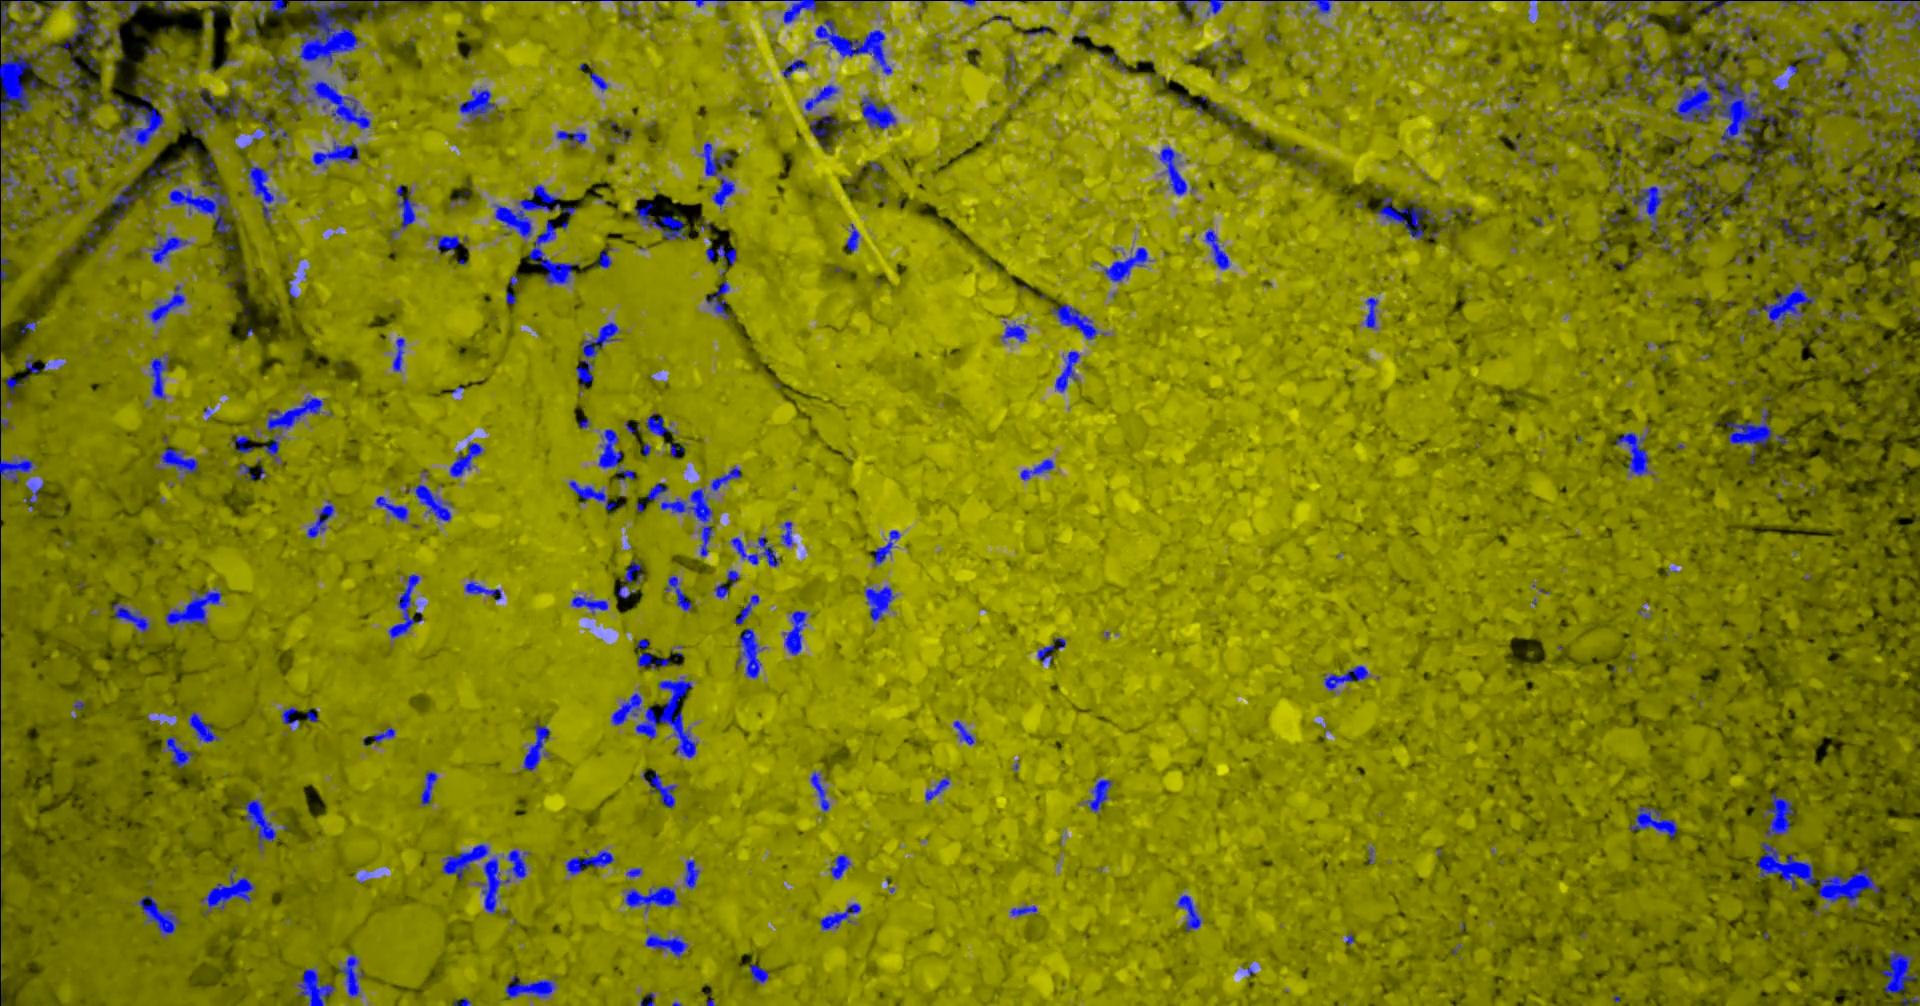ant: (37, 29, 121, 97), (262, 395, 324, 461), (660, 486, 712, 556), (528, 218, 578, 285), (1746, 282, 1815, 325), (575, 321, 618, 387), (1724, 406, 1771, 464), (201, 865, 254, 915), (1374, 196, 1434, 239), (165, 587, 221, 627), (1881, 948, 1919, 1005), (389, 573, 422, 638), (1630, 185, 1671, 238), (1676, 173, 1704, 246), (1050, 304, 1106, 339), (632, 202, 684, 240), (598, 428, 634, 480), (135, 895, 180, 935), (0, 453, 34, 503), (243, 799, 276, 850), (1103, 246, 1152, 281), (245, 165, 273, 221), (730, 535, 778, 567), (1615, 432, 1650, 476), (1592, 0, 1642, 30), (105, 184, 138, 230), (0, 375, 23, 441), (1763, 791, 1796, 837), (1870, 0, 1919, 30), (1629, 807, 1677, 837), (265, 57, 298, 102), (623, 885, 678, 912), (568, 480, 615, 511), (1158, 145, 1186, 196), (735, 627, 763, 678), (149, 285, 185, 323), (296, 968, 334, 1005), (414, 484, 451, 521), (390, 184, 415, 238), (458, 86, 497, 119), (312, 140, 359, 166), (149, 232, 189, 263), (523, 721, 549, 770), (565, 850, 613, 875), (504, 974, 555, 998), (643, 771, 676, 808), (110, 602, 150, 633), (1779, 217, 1818, 246), (861, 97, 895, 130), (450, 442, 483, 476), (1323, 666, 1368, 691), (109, 0, 171, 18), (783, 610, 808, 655), (700, 142, 733, 175), (809, 114, 841, 149), (1203, 229, 1229, 269), (819, 902, 860, 929), (339, 953, 363, 997), (1054, 351, 1079, 392), (636, 638, 669, 669), (863, 586, 894, 620), (157, 447, 198, 473), (306, 500, 334, 537), (782, 0, 827, 23), (610, 694, 641, 725), (617, 559, 643, 598), (872, 530, 900, 565), (644, 934, 687, 956), (147, 159, 188, 183), (165, 735, 194, 768), (1082, 779, 1111, 812), (1176, 894, 1201, 931), (188, 711, 218, 742), (664, 575, 691, 610), (149, 352, 168, 399), (705, 281, 729, 318), (804, 84, 837, 111), (1636, 46, 1662, 77), (705, 241, 737, 268), (375, 495, 408, 521), (1037, 636, 1065, 664), (711, 177, 734, 210), (810, 771, 829, 810), (1020, 459, 1054, 480), (710, 466, 740, 490), (463, 580, 502, 600), (0, 0, 20, 36), (734, 594, 758, 624), (570, 594, 607, 614), (62, 95, 83, 130), (1704, 0, 1732, 24), (1738, 149, 1766, 173), (1796, 43, 1825, 66), (507, 848, 530, 878), (23, 480, 44, 511), (1001, 316, 1026, 342), (1707, 189, 1731, 215), (924, 776, 949, 801), (1823, 79, 1851, 100), (1850, 22, 1865, 61), (434, 235, 467, 253), (420, 770, 437, 805), (240, 11, 264, 36), (646, 412, 670, 436), (1177, 95, 1208, 113), (555, 130, 585, 147), (1622, 71, 1644, 94), (1789, 95, 1804, 130), (952, 720, 974, 744), (829, 854, 851, 878), (781, 58, 808, 77), (683, 857, 698, 889), (1779, 0, 1821, 11), (585, 71, 608, 91), (1903, 111, 1919, 141), (237, 464, 265, 480), (24, 354, 48, 373), (229, 434, 253, 453), (131, 76, 160, 91), (1738, 171, 1754, 199), (1627, 13, 1652, 29), (748, 963, 768, 983), (1107, 50, 1126, 71), (279, 706, 298, 728), (392, 337, 404, 371), (844, 224, 858, 251), (593, 246, 612, 267), (1364, 297, 1377, 328), (646, 481, 667, 500), (663, 441, 684, 459), (0, 238, 9, 279), (1004, 50, 1017, 79), (1738, 23, 1759, 41), (264, 0, 287, 15), (372, 727, 395, 742), (1844, 64, 1868, 77), (1309, 0, 1335, 13), (780, 521, 792, 546), (1204, 0, 1224, 15), (686, 0, 725, 8), (615, 124, 631, 142), (1010, 904, 1037, 915), (83, 221, 99, 238), (0, 168, 11, 191), (8, 0, 37, 9), (1272, 145, 1302, 154), (1176, 0, 1197, 11), (1782, 152, 1801, 165), (1710, 152, 1733, 163), (712, 583, 728, 598), (1669, 58, 1679, 80), (639, 991, 654, 1005), (20, 320, 37, 333), (216, 0, 236, 9), (728, 569, 739, 584), (306, 708, 317, 721), (505, 291, 517, 304), (626, 868, 641, 876), (0, 829, 1, 899), (0, 767, 1, 826)
